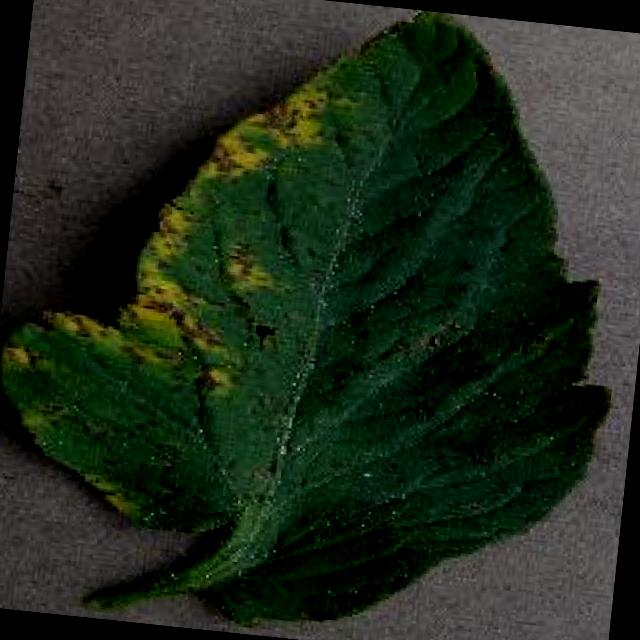bacterial spot: (4, 9, 611, 617)
